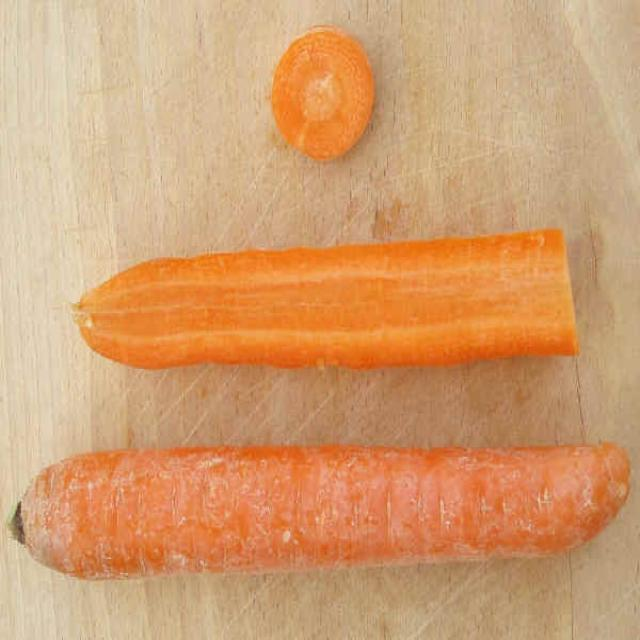Carrot: (16, 442, 628, 581)
